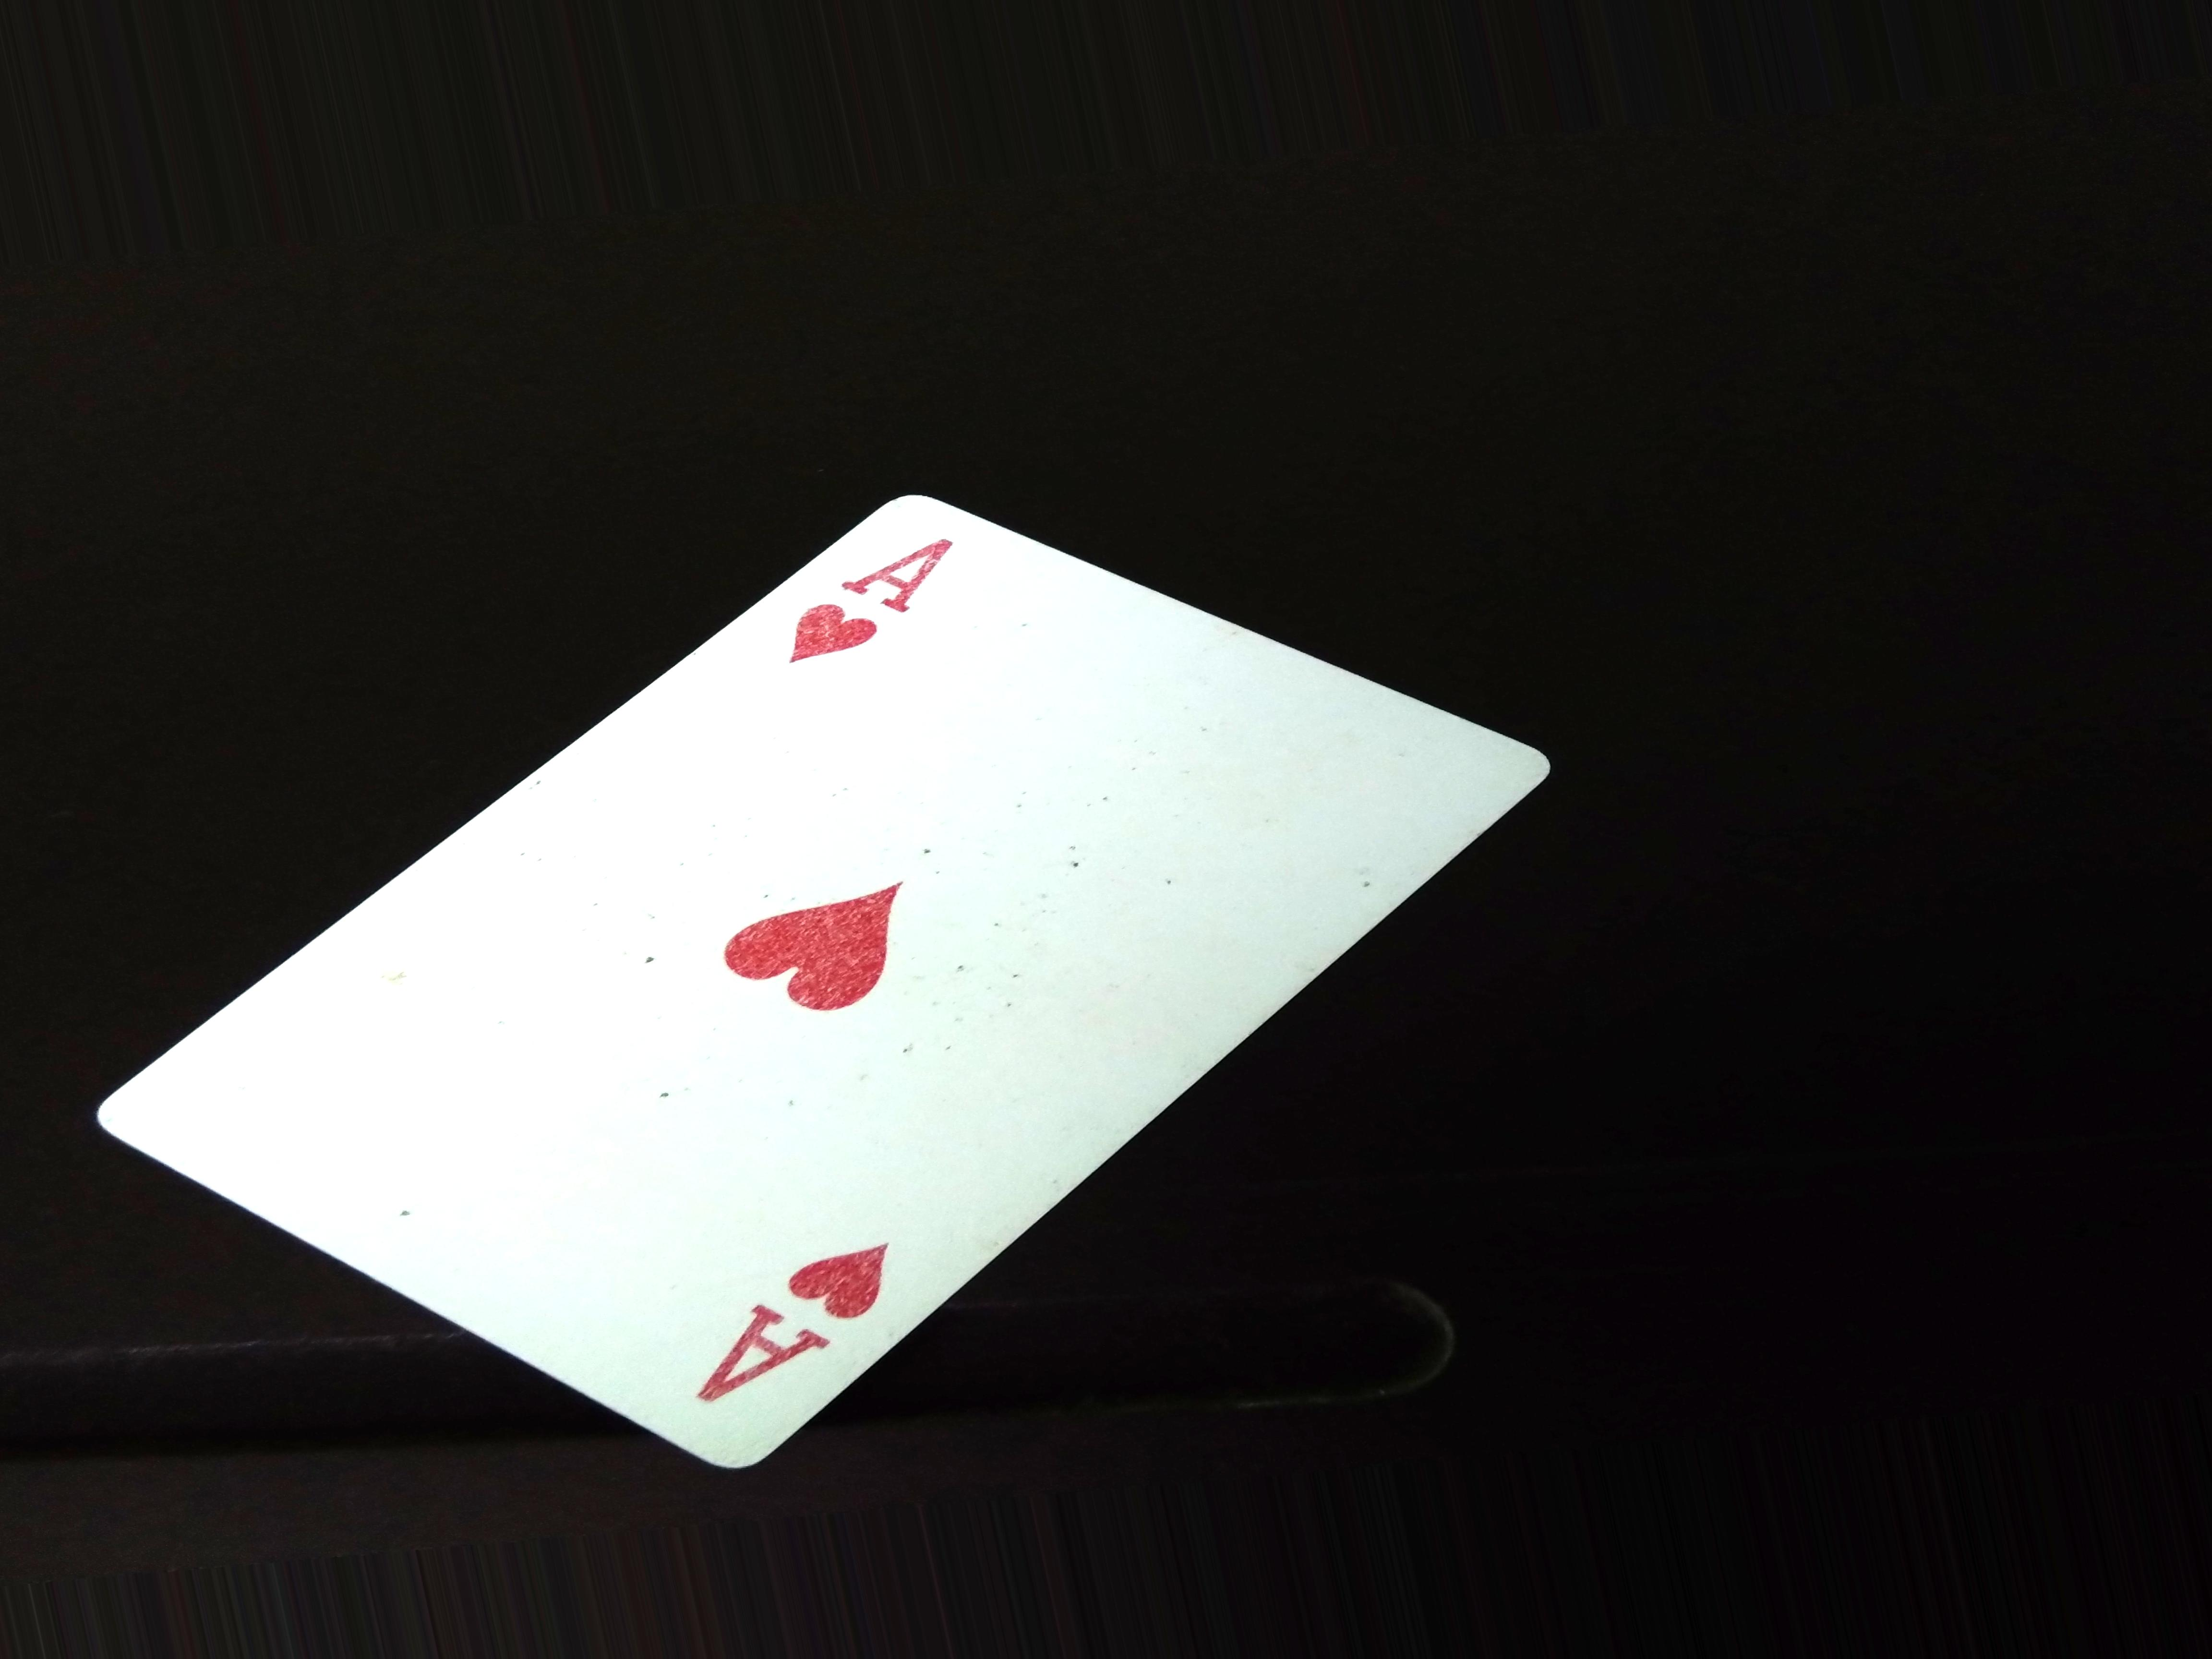AH: (759, 530, 967, 688)
